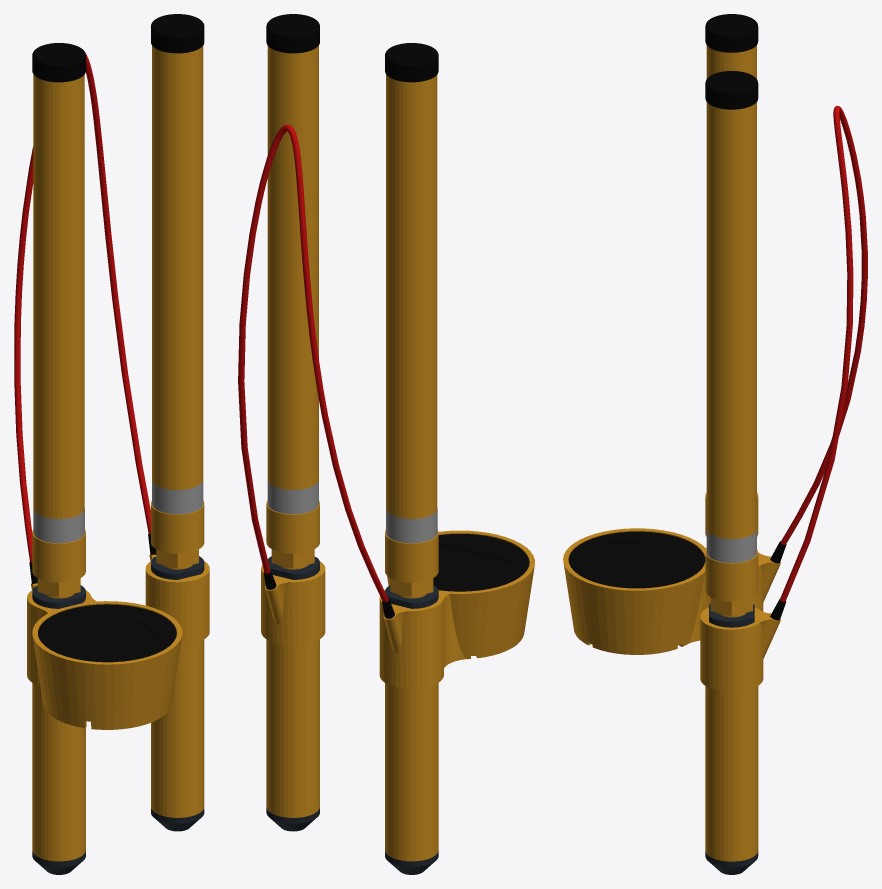
Rendered from Voltímetro.fbx.
3 renders of one model, left to right at view 1: azimuth 30°, elevation 25°; view 2: azimuth 150°, elevation 25°; view 3: azimuth 270°, elevation 25°, orthographic.
Visible parts, largest first — view 1: Ens_voltímetro___Bastón_2_2, Ens_voltímetro___Bastón_2_1, Ens_voltímetro___Probador_de_tensión_voltímetro_1, Ens_voltímetro___Probador_de_tensión_1, Ens_voltímetro___Pantalla_1, Ens_voltímetro___Cable_1, Ens_voltímetro___Bastón_2, Ens_voltímetro___Bastón_1, Ens_voltímetro___Bastón_3_2, Ens_voltímetro___Bastón_3_1, Ens_voltímetro___Bast_etiqueta_2, Ens_voltímetro___Bast_etiqueta_1 (+4 smaller); view 2: Ens_voltímetro___Bastón_2_2, Ens_voltímetro___Bastón_2_1, Ens_voltímetro___Probador_de_tensión_voltímetro_1, Ens_voltímetro___Probador_de_tensión_1, Ens_voltímetro___Cable_1, Ens_voltímetro___Pantalla_1, Ens_voltímetro___Bastón_1, Ens_voltímetro___Bastón_2, Ens_voltímetro___Bastón_3_1, Ens_voltímetro___Bastón_3_2, Ens_voltímetro___Bast_etiqueta_2, Ens_voltímetro___Bast_etiqueta_1 (+4 smaller); view 3: Ens_voltímetro___Bastón_2_1, Ens_voltímetro___Probador_de_tensión_1, Ens_voltímetro___Probador_de_tensión_voltímetro_1, Ens_voltímetro___Cable_1, Ens_voltímetro___Pantalla_1, Ens_voltímetro___Bastón_1, Ens_voltímetro___Bastón_3_2, Ens_voltímetro___Bastón_3_1, Ens_voltímetro___Bast_etiqueta_1, Ens_voltímetro___Bastón_2_2.
Boxes of the visible parts, x1=… form: Ens_voltímetro___Bastón_2_2: x1=33, y1=74, x2=84, y2=518; Ens_voltímetro___Bastón_2_1: x1=152, y1=46, x2=203, y2=489; Ens_voltímetro___Probador_de_tensión_voltímetro_1: x1=27, y1=583, x2=182, y2=861; Ens_voltímetro___Probador_de_tensión_1: x1=145, y1=554, x2=209, y2=817; Ens_voltímetro___Pantalla_1: x1=38, y1=604, x2=176, y2=662; Ens_voltímetro___Cable_1: x1=14, y1=53, x2=150, y2=562; Ens_voltímetro___Bastón_2: x1=32, y1=530, x2=85, y2=598; Ens_voltímetro___Bastón_1: x1=151, y1=501, x2=204, y2=569; Ens_voltímetro___Bastón_3_2: x1=32, y1=43, x2=85, y2=82; Ens_voltímetro___Bastón_3_1: x1=151, y1=14, x2=204, y2=53; Ens_voltímetro___Bast_etiqueta_2: x1=33, y1=508, x2=84, y2=543; Ens_voltímetro___Bast_etiqueta_1: x1=152, y1=480, x2=203, y2=514; Ens_voltímetro___Bastón_2_2: x1=386, y1=74, x2=437, y2=518; Ens_voltímetro___Bastón_2_1: x1=267, y1=45, x2=318, y2=489; Ens_voltímetro___Probador_de_tensión_voltímetro_1: x1=379, y1=530, x2=534, y2=861; Ens_voltímetro___Probador_de_tensión_1: x1=261, y1=561, x2=325, y2=817; Ens_voltímetro___Cable_1: x1=238, y1=124, x2=388, y2=602; Ens_voltímetro___Pantalla_1: x1=433, y1=534, x2=529, y2=591; Ens_voltímetro___Bastón_1: x1=266, y1=500, x2=319, y2=569; Ens_voltímetro___Bastón_2: x1=385, y1=530, x2=438, y2=598; Ens_voltímetro___Bastón_3_1: x1=266, y1=14, x2=319, y2=53; Ens_voltímetro___Bastón_3_2: x1=385, y1=43, x2=438, y2=82; Ens_voltímetro___Bast_etiqueta_2: x1=386, y1=508, x2=437, y2=543; Ens_voltímetro___Bast_etiqueta_1: x1=267, y1=480, x2=318, y2=514; Ens_voltímetro___Bastón_2_1: x1=706, y1=102, x2=756, y2=539; Ens_voltímetro___Probador_de_tensión_1: x1=700, y1=607, x2=780, y2=861; Ens_voltímetro___Probador_de_tensión_voltímetro_1: x1=563, y1=528, x2=780, y2=654; Ens_voltímetro___Cable_1: x1=780, y1=105, x2=867, y2=602; Ens_voltímetro___Pantalla_1: x1=568, y1=531, x2=705, y2=588; Ens_voltímetro___Bastón_1: x1=705, y1=549, x2=758, y2=617; Ens_voltímetro___Bastón_3_2: x1=705, y1=14, x2=758, y2=52; Ens_voltímetro___Bastón_3_1: x1=705, y1=71, x2=758, y2=109; Ens_voltímetro___Bast_etiqueta_1: x1=706, y1=530, x2=756, y2=562; Ens_voltímetro___Bastón_2_2: x1=706, y1=45, x2=756, y2=78.
Bounding box in the file's own units: 22.77 × 84 × 28.92.
